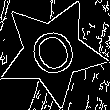O_SE: (21, 20, 83, 85)
